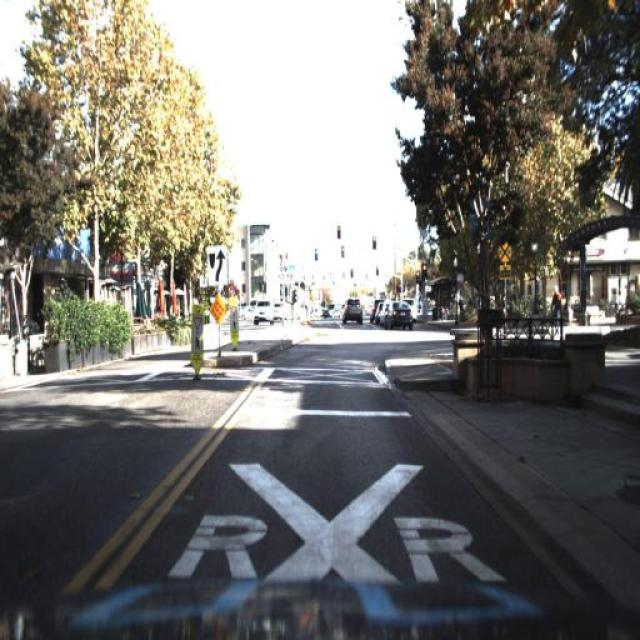car: (248, 294, 274, 328), (340, 296, 365, 329), (391, 303, 415, 331), (273, 297, 285, 323)
trafficLight: (550, 283, 562, 331)
trafficLight-RedLeft: (420, 258, 432, 282), (370, 230, 381, 256), (412, 261, 422, 287), (334, 222, 345, 244)
